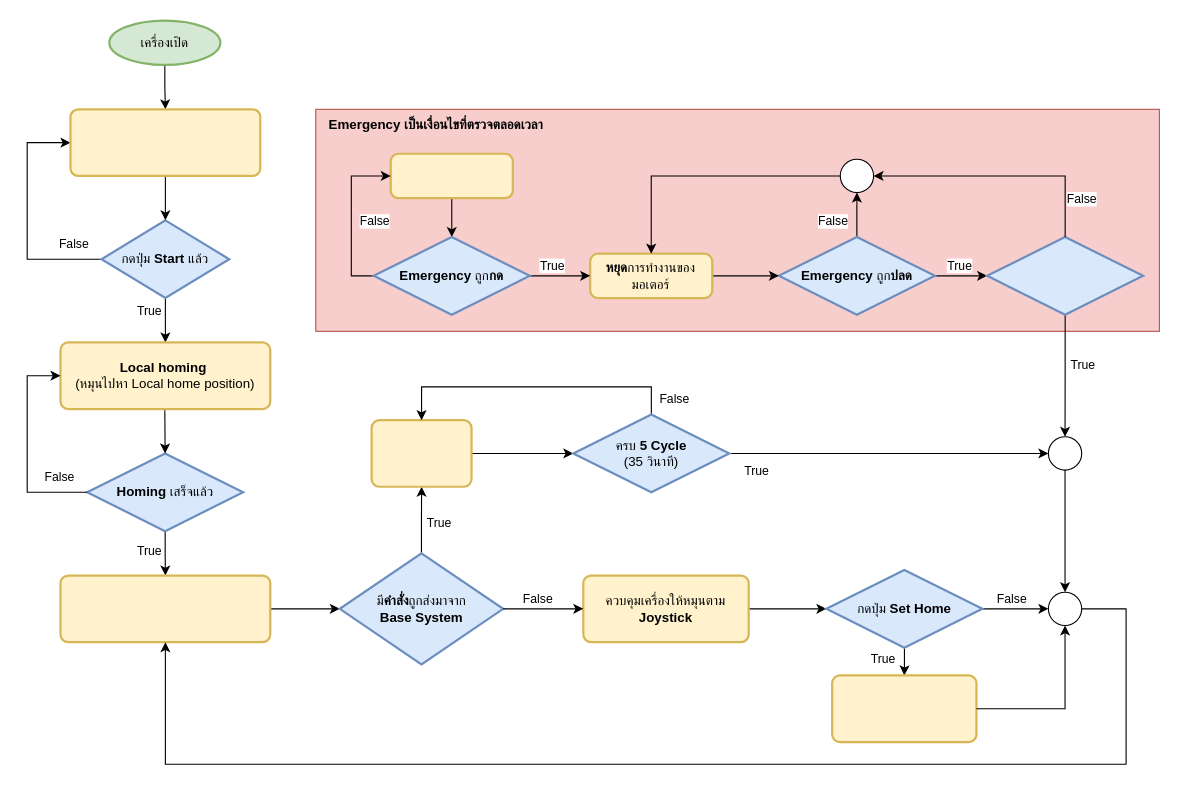
Image size: 1179x793. Some labels were removed from this diagram. The centre of each missing label's shape, as x and y in pixels:
Idle state (พร้อมทำงานอยู่ในสถานะรอรับคำสั่ง): the point at 165,608
Pick & Place (1 Cycle): the point at 421,452
Prepare state (เครื่องไม่มีการเคลื่อนไหวใดๆ): the point at 165,142
กดปุ่ม Reset แล้ว: the point at 1064,275
ตั้งค่า Home position ใหม่: the point at 904,708
เครื่อง ทำงาน: the point at 451,175
